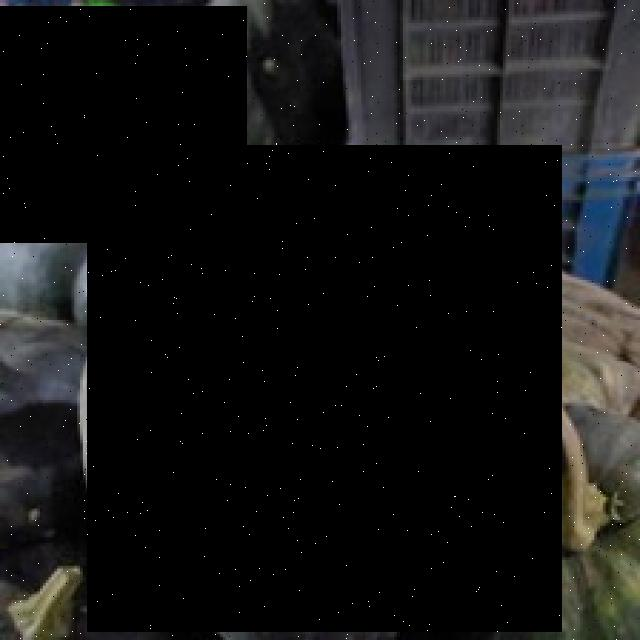Pumpkin: (88, 145, 562, 632), (0, 6, 247, 243)
